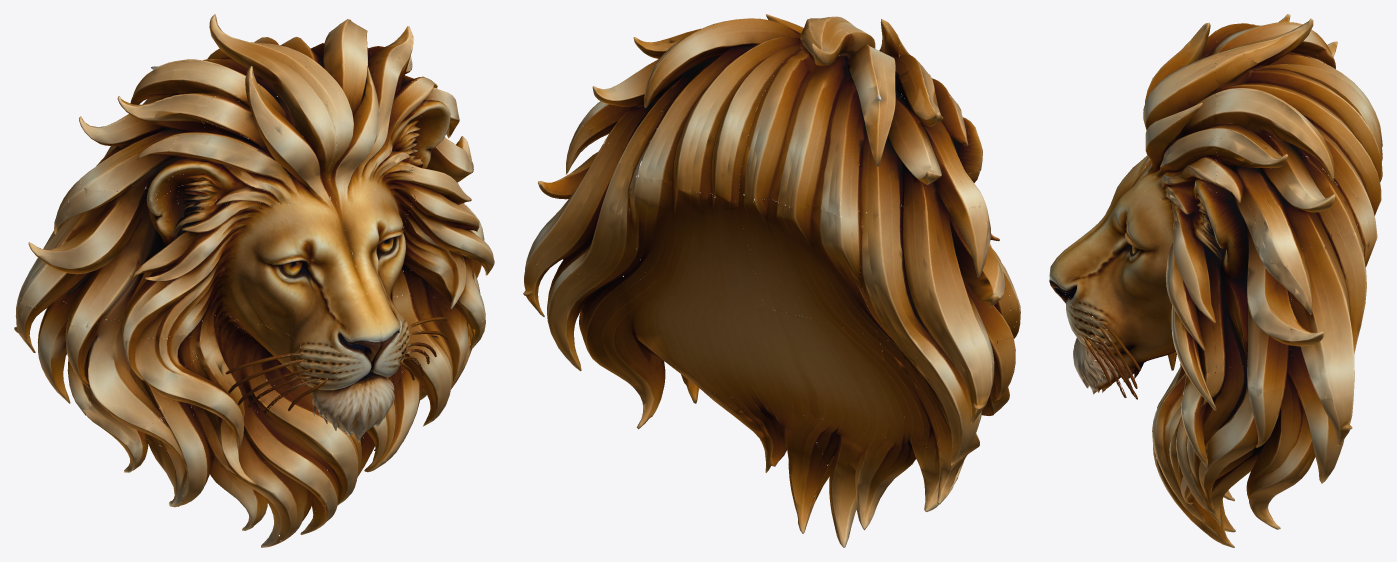
Rendered from lion-mobile.glb.
The picture shows the model from 3 angles, left to right: view 1: azimuth 30°, elevation 25°; view 2: azimuth 150°, elevation 25°; view 3: azimuth 270°, elevation 25°; orthographic projection. The views are drawn at different scales.
Visible parts, largest first — view 1: geometry_0; view 2: geometry_0; view 3: geometry_0.
Boxes of the visible parts, bbox=[...] form: geometry_0: bbox=[14, 14, 494, 547]; geometry_0: bbox=[523, 14, 1020, 547]; geometry_0: bbox=[1049, 14, 1382, 547].
Size of the model in its own units: 1.83 by 2 by 1.19.
1 material, 1 textured.
